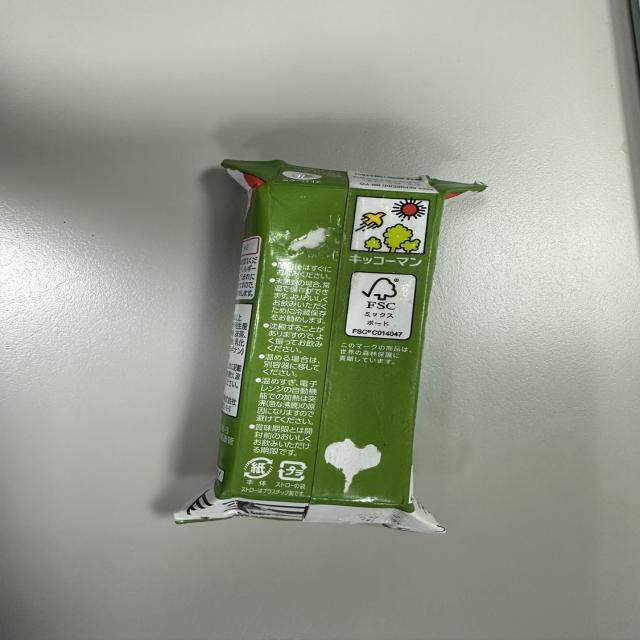Aluminium Foil: (206, 157, 444, 528)
